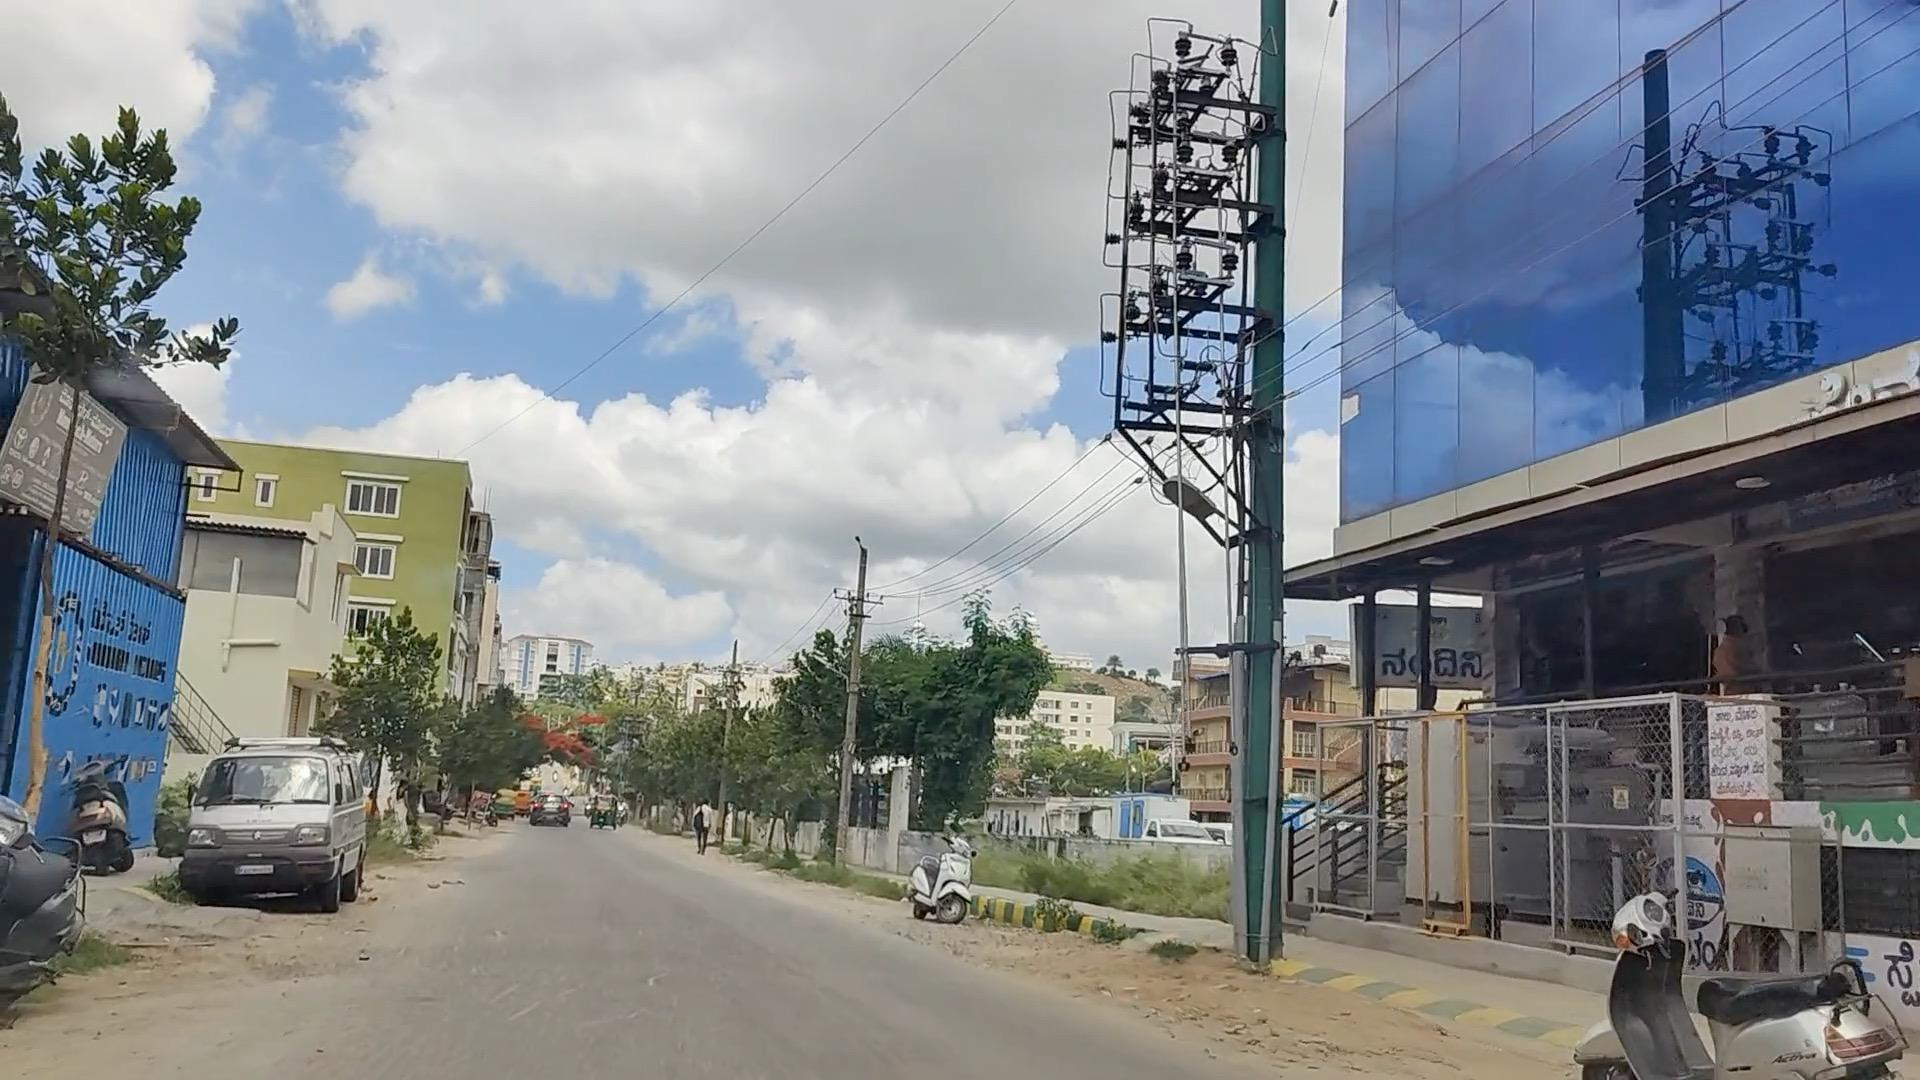LMV: (190, 742, 340, 890)
